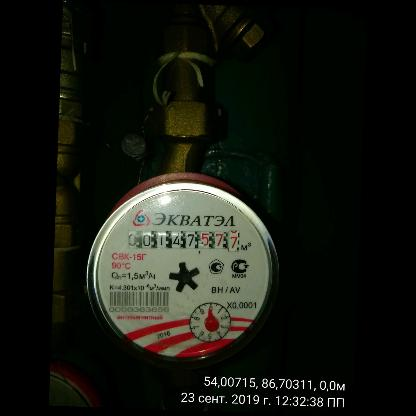digital_screen: (123, 226, 199, 254)
